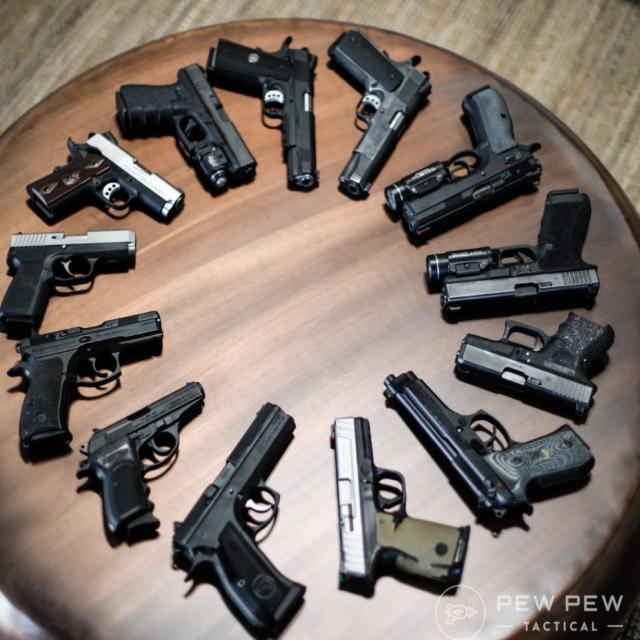Weapon: (172, 403, 305, 636), (385, 371, 594, 517), (331, 417, 468, 595), (385, 86, 541, 236), (8, 311, 162, 458), (426, 189, 599, 315), (77, 383, 204, 540), (115, 63, 255, 191), (328, 29, 430, 197), (206, 37, 318, 189), (456, 311, 614, 417), (0, 229, 135, 336), (26, 132, 184, 222)
